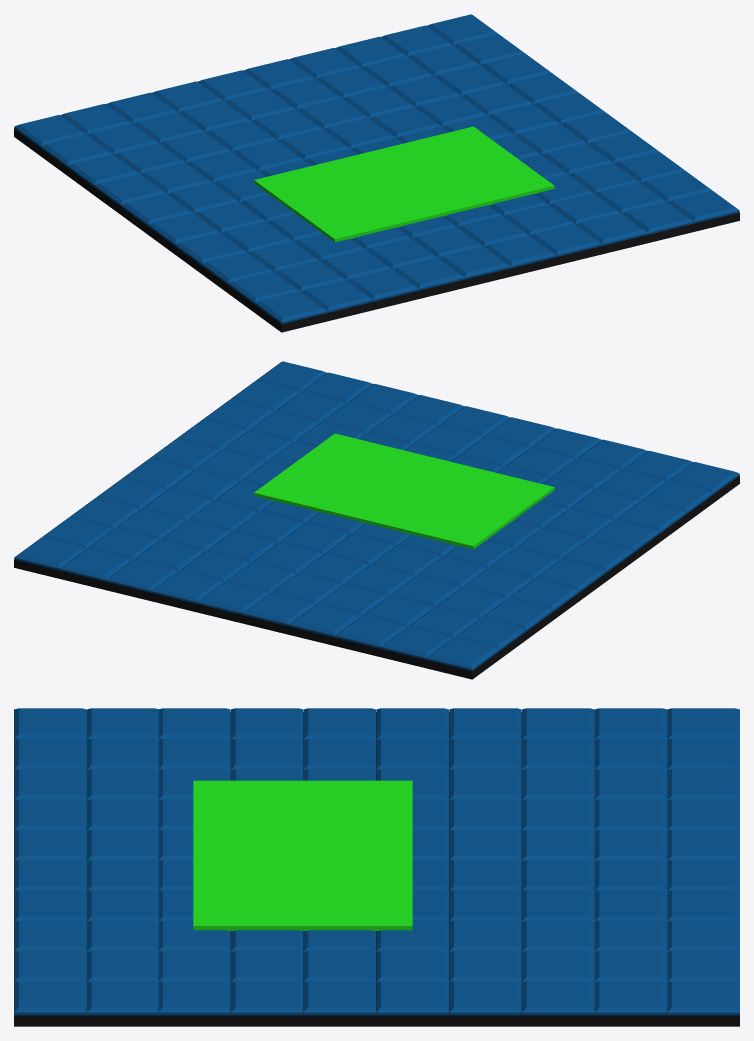
File: floor_tier10.fbx
3 renders of one model, top to bottom at view 1: azimuth 30°, elevation 25°; view 2: azimuth 150°, elevation 25°; view 3: azimuth 270°, elevation 25°, orthographic. The views are drawn at different scales.
Parts seen in each view (by area): view 1: Cube, Cube.001, Cube.101, Cube.098, Cube.093, Cube.094, Cube.097, Cube.100, Cube.092, Cube.095, Cube.096, Cube.099 (+78 smaller); view 2: Cube, Cube.001, Cube.010, Cube.006, Cube.007, Cube.011, Cube.002, Cube.005, Cube.009, Cube.003, Cube.004, Cube.008 (+78 smaller); view 3: Cube, Cube.001, Cube.012, Cube.011, Cube.032, Cube.042, Cube.092, Cube.082, Cube.022, Cube.052, Cube.062, Cube.072 (+82 smaller).
Boxes of the visible parts, x1,y1,x2,y2 form: Cube: (254,126,554,242); Cube.001: (14,128,739,332); Cube.101: (255,291,327,323); Cube.098: (392,257,464,290); Cube.093: (621,202,693,234); Cube.094: (576,213,648,245); Cube.097: (438,246,510,279); Cube.100: (301,280,373,312); Cube.092: (667,190,739,223); Cube.095: (530,224,602,256); Cube.096: (484,235,556,267); Cube.099: (347,269,418,301); Cube: (254,433,554,549); Cube.001: (14,475,739,679); Cube.010: (426,638,498,670); Cube.006: (243,593,315,626); Cube.007: (289,604,361,637); Cube.011: (14,537,86,570); Cube.002: (60,549,132,581); Cube.005: (197,582,269,614); Cube.009: (380,627,452,659); Cube.003: (106,560,177,592); Cube.004: (151,571,223,603); Cube.008: (335,616,406,648); Cube: (193,780,412,930); Cube.001: (14,712,739,1026); Cube.012: (594,981,667,1015); Cube.011: (667,981,739,1015); Cube.032: (449,981,521,1015); Cube.042: (376,981,448,1015); Cube.092: (14,981,86,1015); Cube.082: (86,981,159,1015); Cube.022: (522,981,594,1015); Cube.052: (303,981,375,1015); Cube.062: (231,981,303,1015); Cube.072: (158,981,230,1015).
Size of the model in its own units: 654 by 21.71 by 662.
